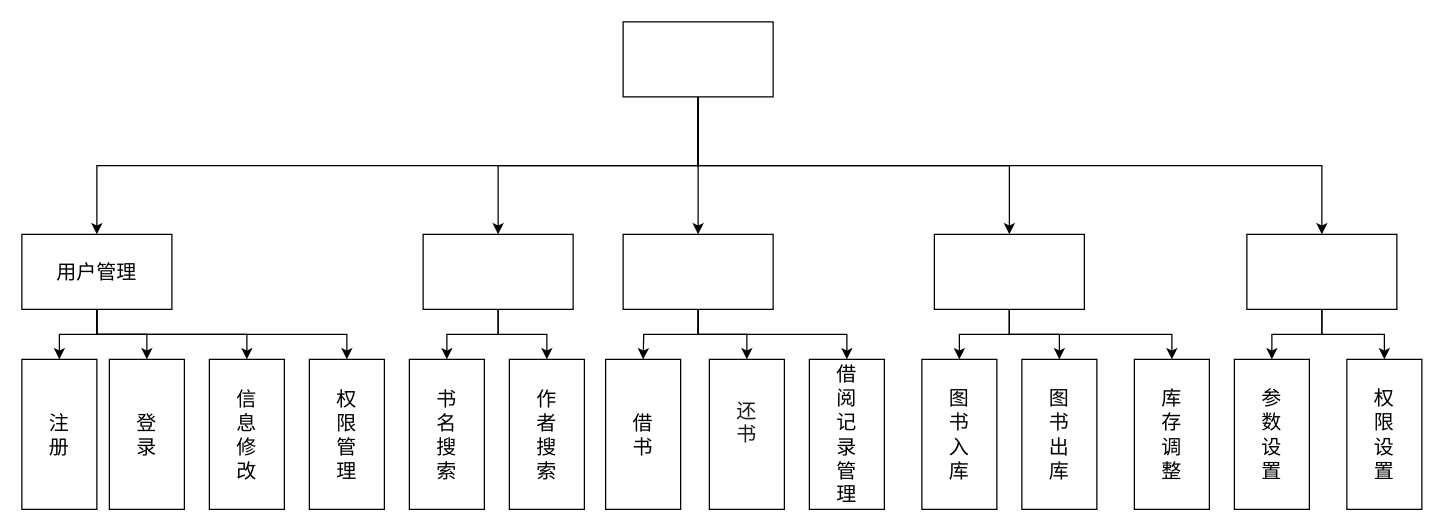
This 1444x531 diagram has some shape labels left out. The shapes that lost their labels are listed below. From the top down, each one's centre as x and y in pixels, then its label:
At [697,59]: "图书管理系统".
At [497,271]: "图书检索".
At [697,271]: "借阅管理".
At [1008,271]: "库存管理".
At [1321,271]: "系统设置和维护".
